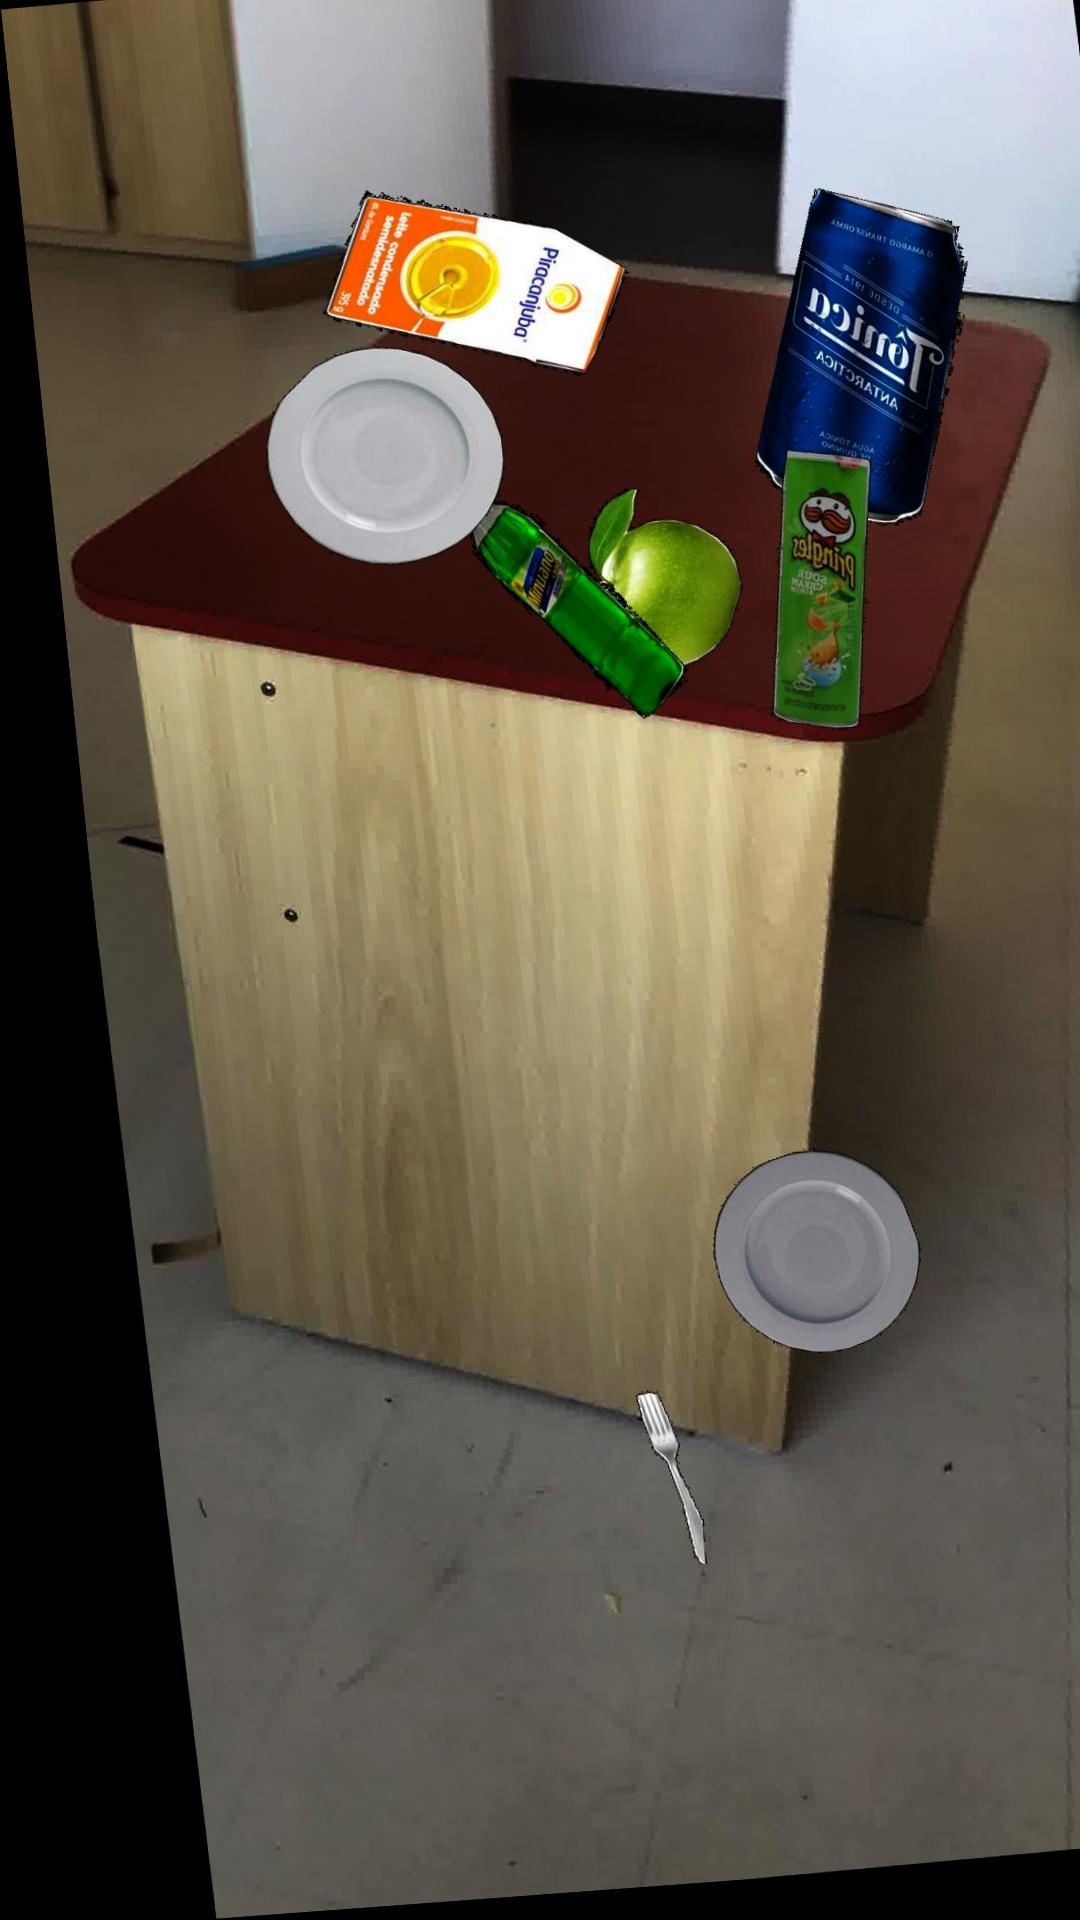cleaner: (460, 505, 674, 725)
fork: (605, 1396, 673, 1572)
green apple: (576, 496, 729, 674)
plate: (257, 351, 495, 568), (686, 1159, 893, 1362)
pringles: (757, 459, 860, 740)
tonic: (745, 199, 960, 535)
